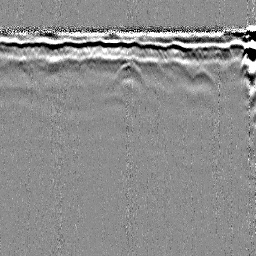cavity: (113, 60, 145, 83)
